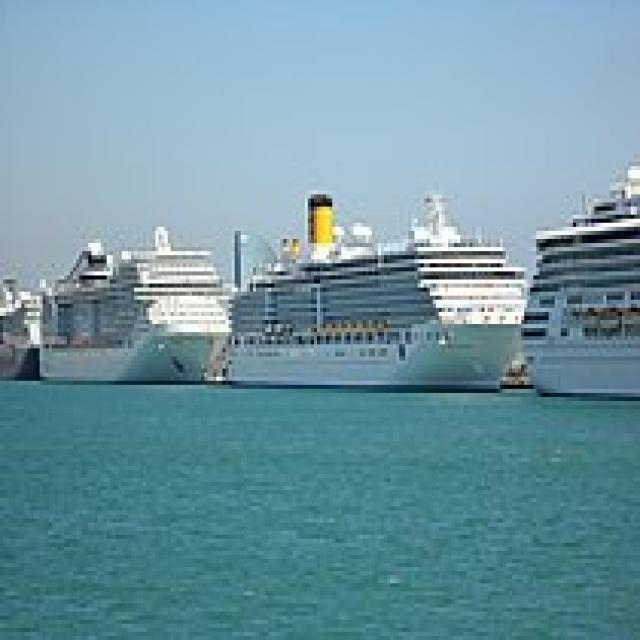Ship: (202, 183, 547, 410), (19, 216, 248, 399)
